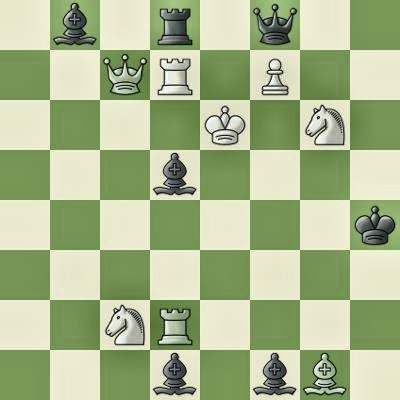black-bishop: (50, 0, 100, 50), (150, 150, 200, 200), (150, 350, 200, 400), (250, 350, 300, 400)
black-king: (350, 200, 400, 250)
black-queen: (250, 0, 300, 50)
black-rook: (150, 0, 200, 50)
white-bishop: (300, 350, 350, 400)
white-king: (200, 100, 250, 150)
white-knight: (300, 100, 350, 150), (100, 300, 150, 350)
white-pawn: (250, 50, 300, 100)
white-queen: (100, 50, 150, 100)
white-rook: (150, 50, 200, 100), (150, 300, 200, 350)
